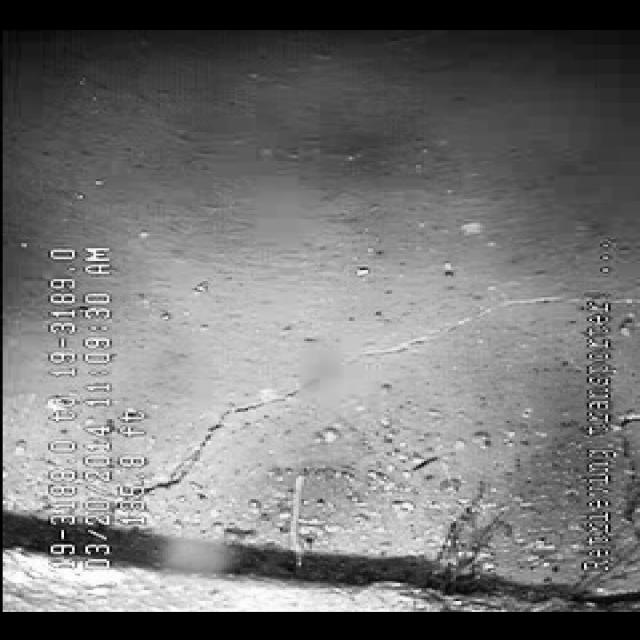Crack: (161, 308, 491, 482)
